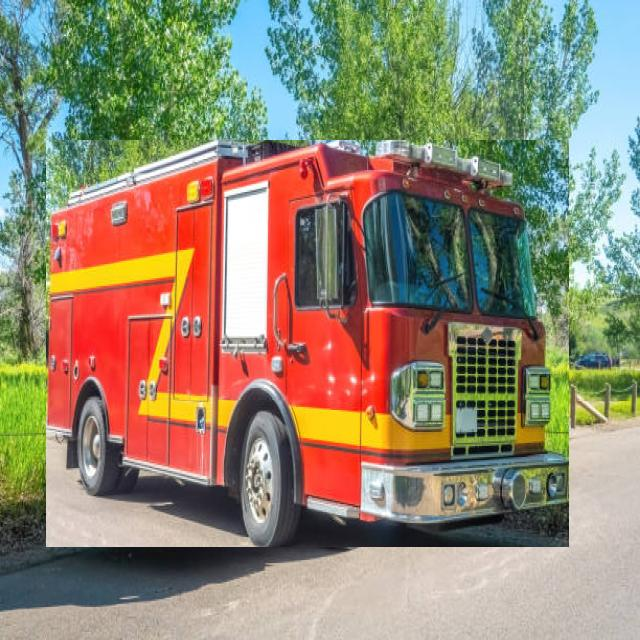emergency: (46, 140, 569, 547)
